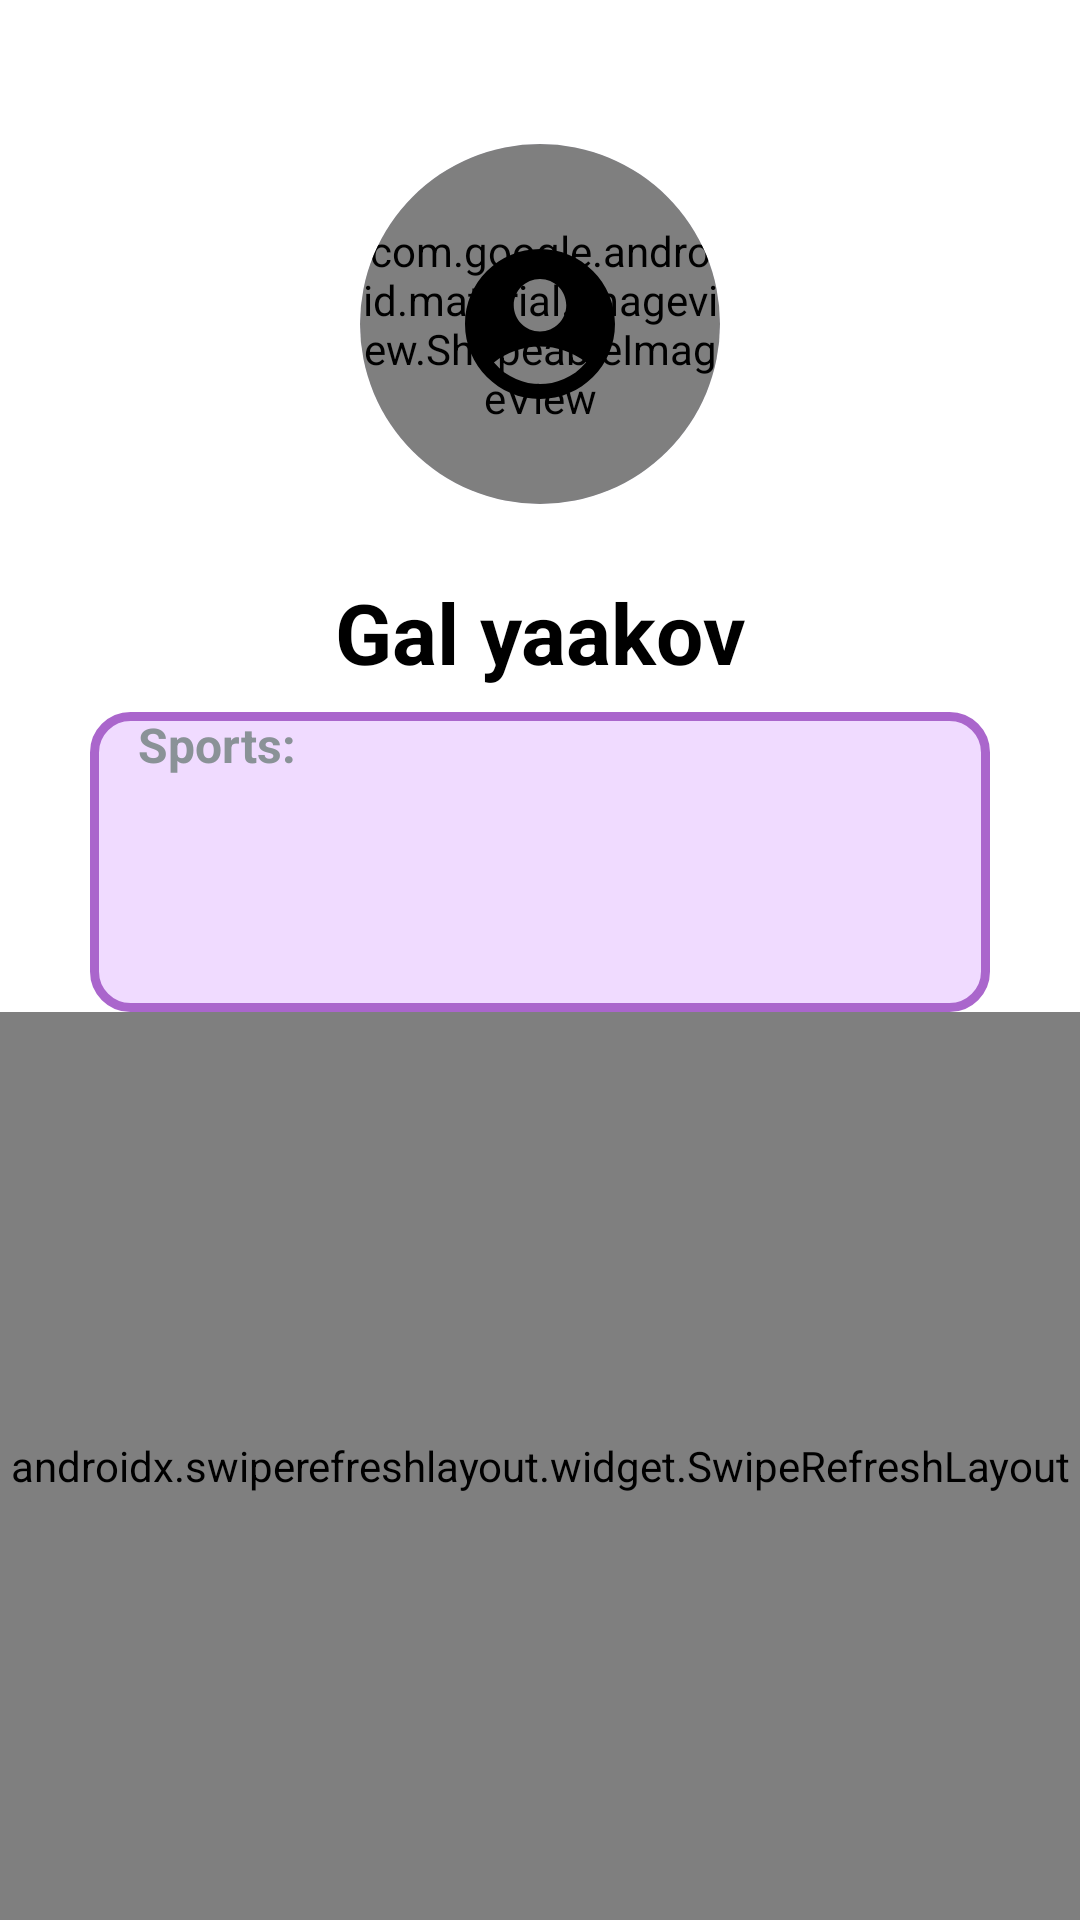

Locate icon controls on the screen. Image size 1080 x 1920, boxes as [x1=x1, y1=y1, x2=x2, y2=y2].
profile: [x1=450, y1=235, x2=630, y2=414]
